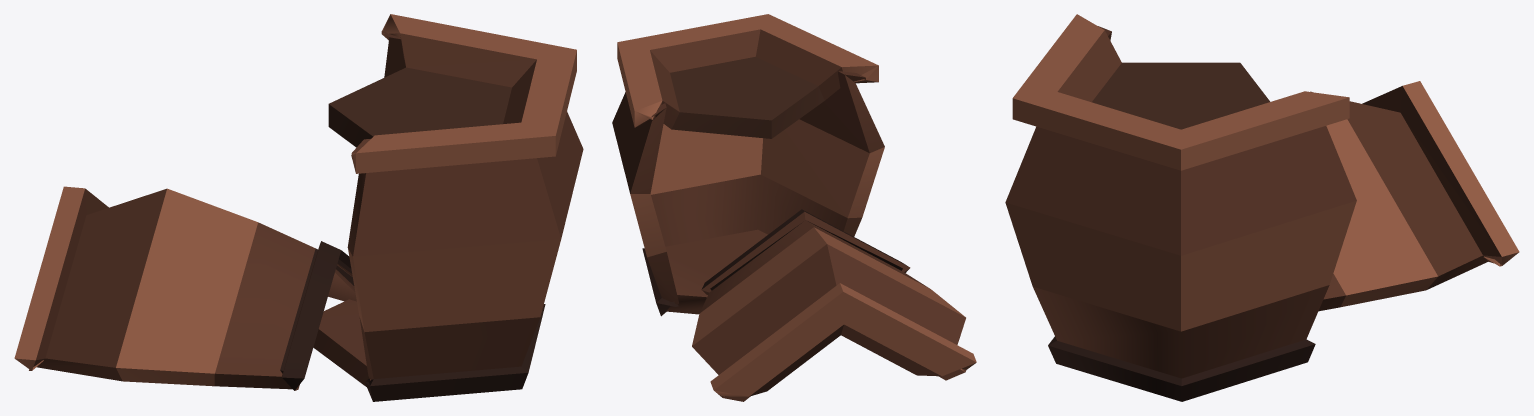
File: BrokenPot.fbx
The picture shows the model from 3 angles, left to right: view 1: azimuth 30°, elevation 25°; view 2: azimuth 150°, elevation 25°; view 3: azimuth 270°, elevation 25°; orthographic projection. The views are drawn at different scales.
Parts seen in each view (by area): view 1: BrokenPot; view 2: BrokenPot; view 3: BrokenPot.
Part boxes in pixels (x1=…): BrokenPot: x1=14, y1=14, x2=583, y2=401; BrokenPot: x1=612, y1=14, x2=976, y2=401; BrokenPot: x1=1005, y1=14, x2=1519, y2=401.
Size of the model in its own units: 20.03 by 10.02 by 17.15.
